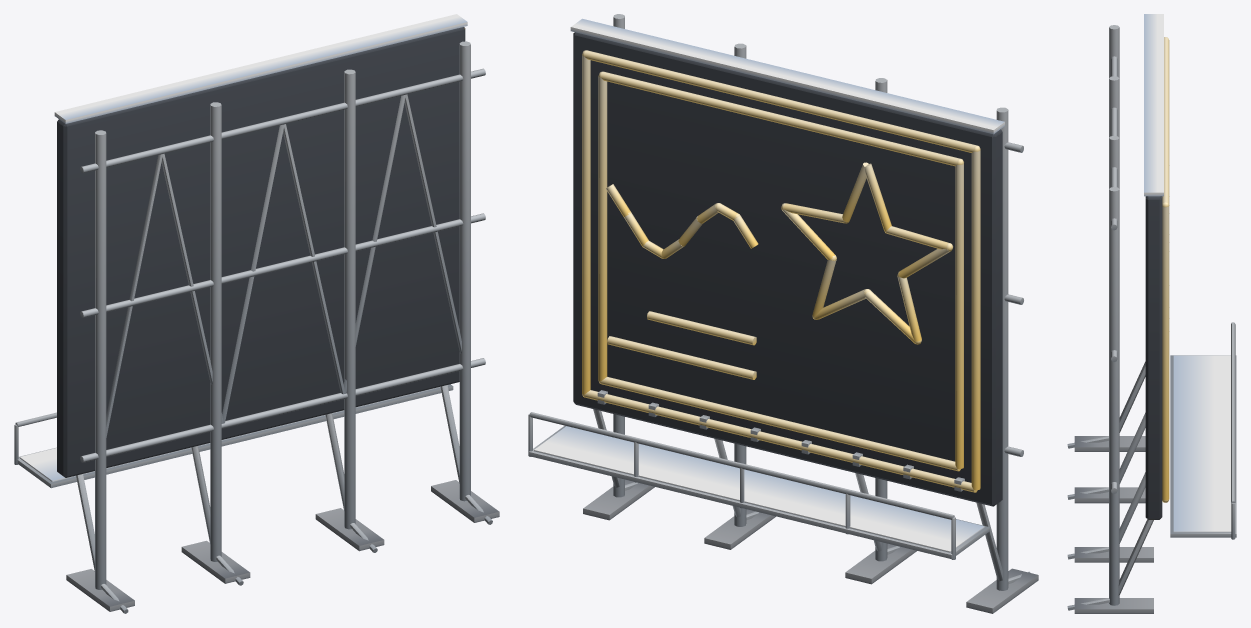
The model's file is ck_neon_sign.fbx.
The picture shows the model from 3 angles, left to right: view 1: azimuth 30°, elevation 25°; view 2: azimuth 150°, elevation 25°; view 3: azimuth 270°, elevation 25°; orthographic projection. The views are drawn at different scales.
Visible parts, largest first — view 1: ck_neon_sign; view 2: ck_neon_sign; view 3: ck_neon_sign.
Part boxes in pixels (box(x1,y1,x2,y2)): ck_neon_sign: box(14, 14, 499, 613); ck_neon_sign: box(528, 14, 1038, 613); ck_neon_sign: box(1067, 14, 1236, 613).
Size of the model in its own units: 1287 by 1420 by 510.
